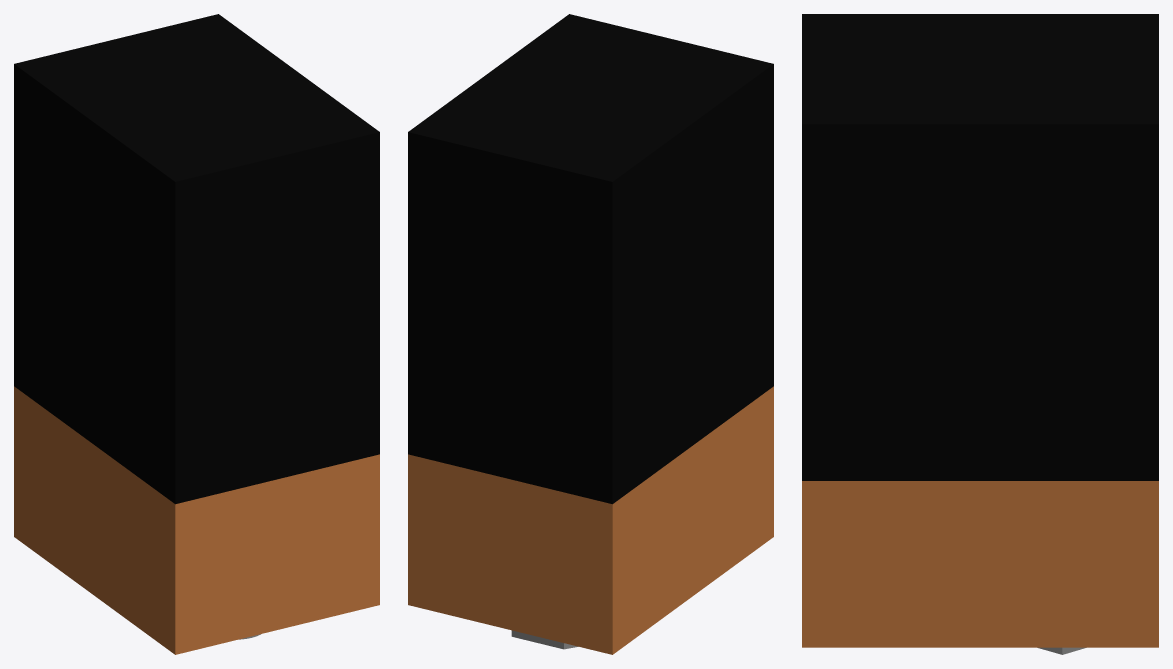
The model's file is bateria9V.glb.
3 renders of one model, left to right at view 1: azimuth 30°, elevation 25°; view 2: azimuth 150°, elevation 25°; view 3: azimuth 270°, elevation 25°, orthographic. The views are drawn at different scales.
Parts seen in each view (by area): view 1: Cuerpo; view 2: Cuerpo; view 3: Cuerpo.
Boxes of the visible parts, box(x1,y1,x2,y2) form: Cuerpo: box(14, 14, 379, 654); Cuerpo: box(408, 14, 773, 654); Cuerpo: box(802, 14, 1158, 647).
Size of the model in its own units: 1.26 by 3.01 by 1.72.
